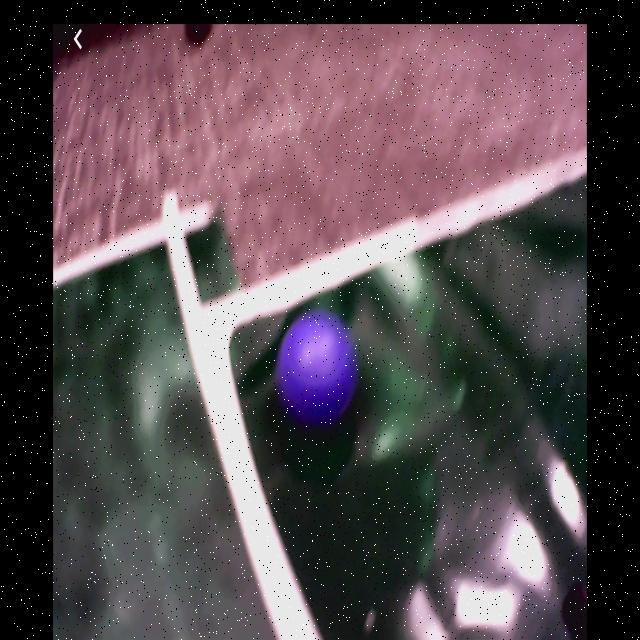ball: (281, 316, 355, 420)
